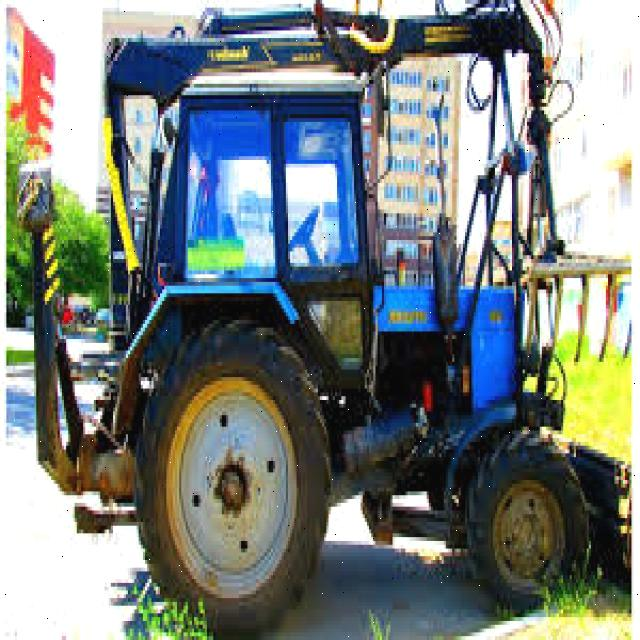Tratores - v5 YOLO V8L 2024-11-13: (134, 83, 588, 640)
